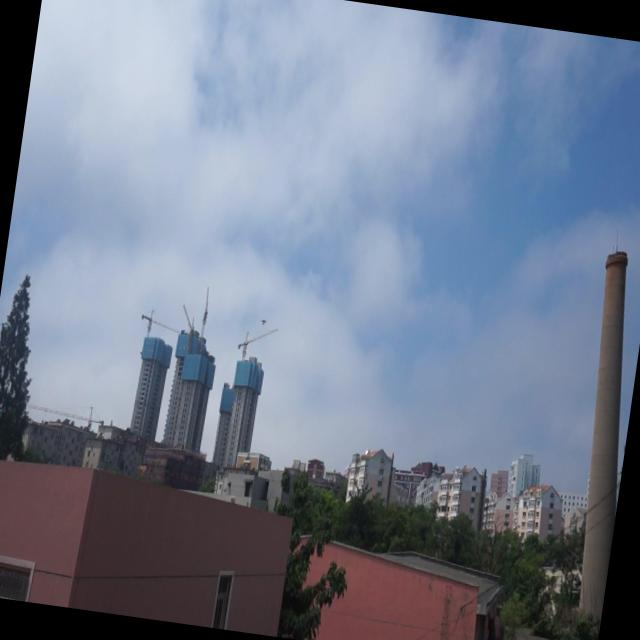drone: (260, 314, 268, 331)
